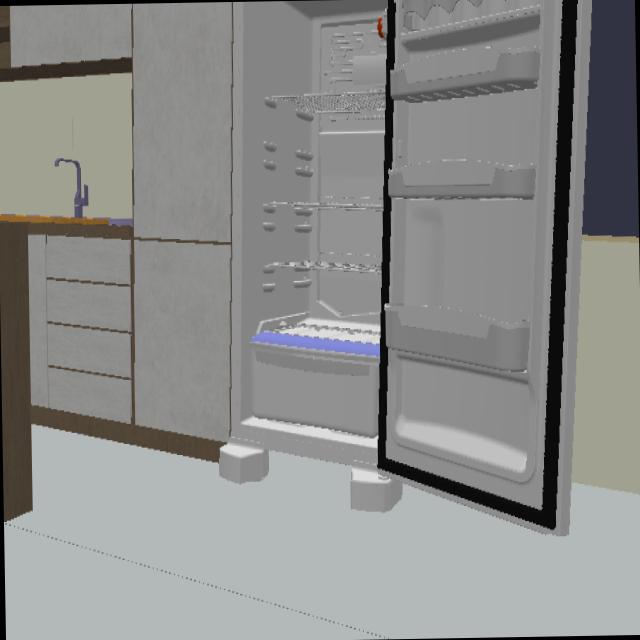fridge: (229, 0, 594, 536)
sink: (0, 190, 130, 235)
